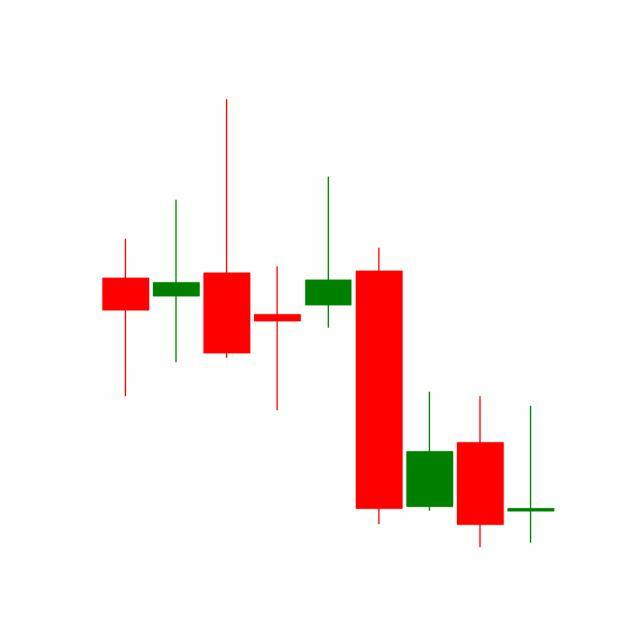Hikkake Pattern: (252, 173, 506, 548)
